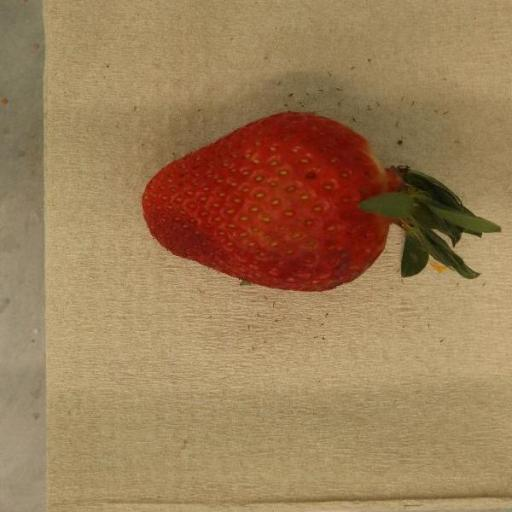Strawberry: (142, 112, 502, 293)
